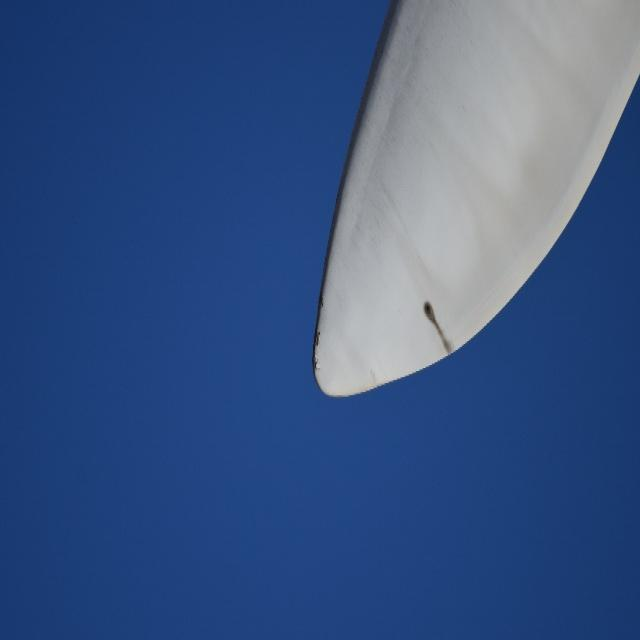Burn Mark: (419, 299, 454, 356)
EROSION: (292, 278, 335, 386)
